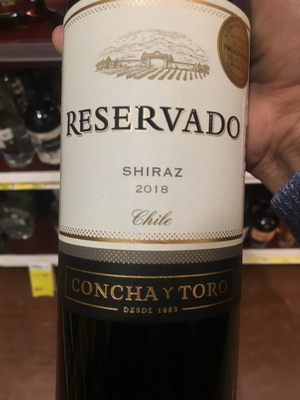reservado shiraz: (57, 1, 247, 400)
